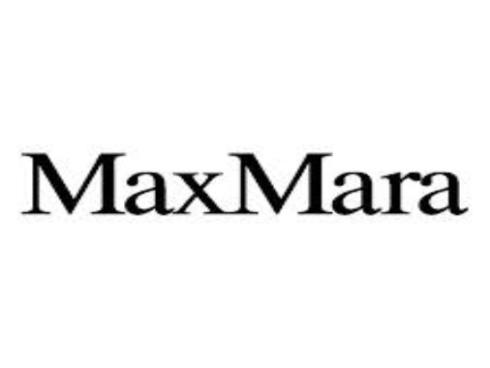MAX-MARA: (16, 146, 469, 221)
